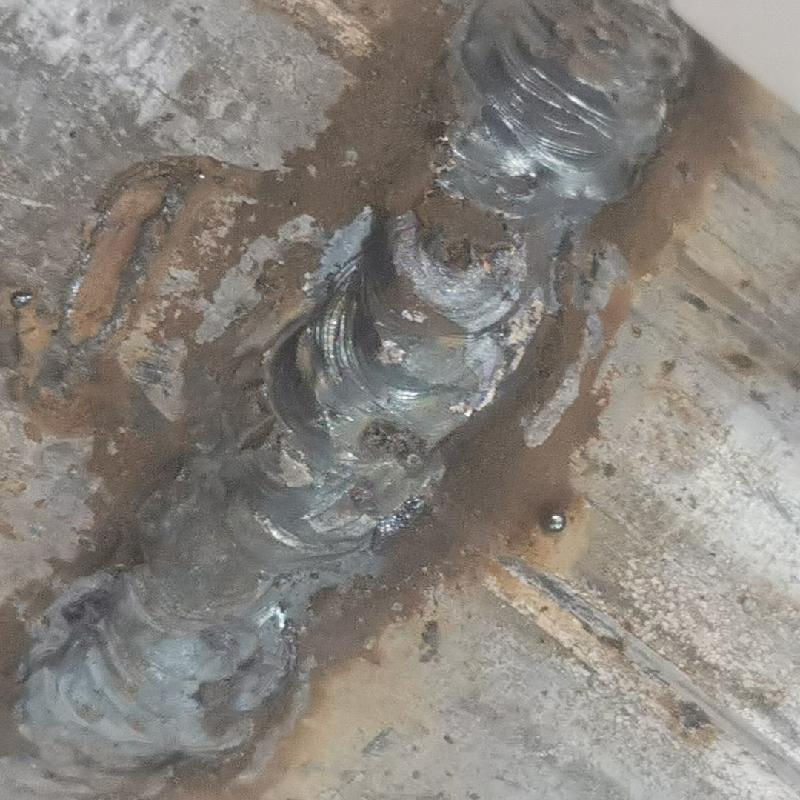good: (16, 5, 688, 751)
